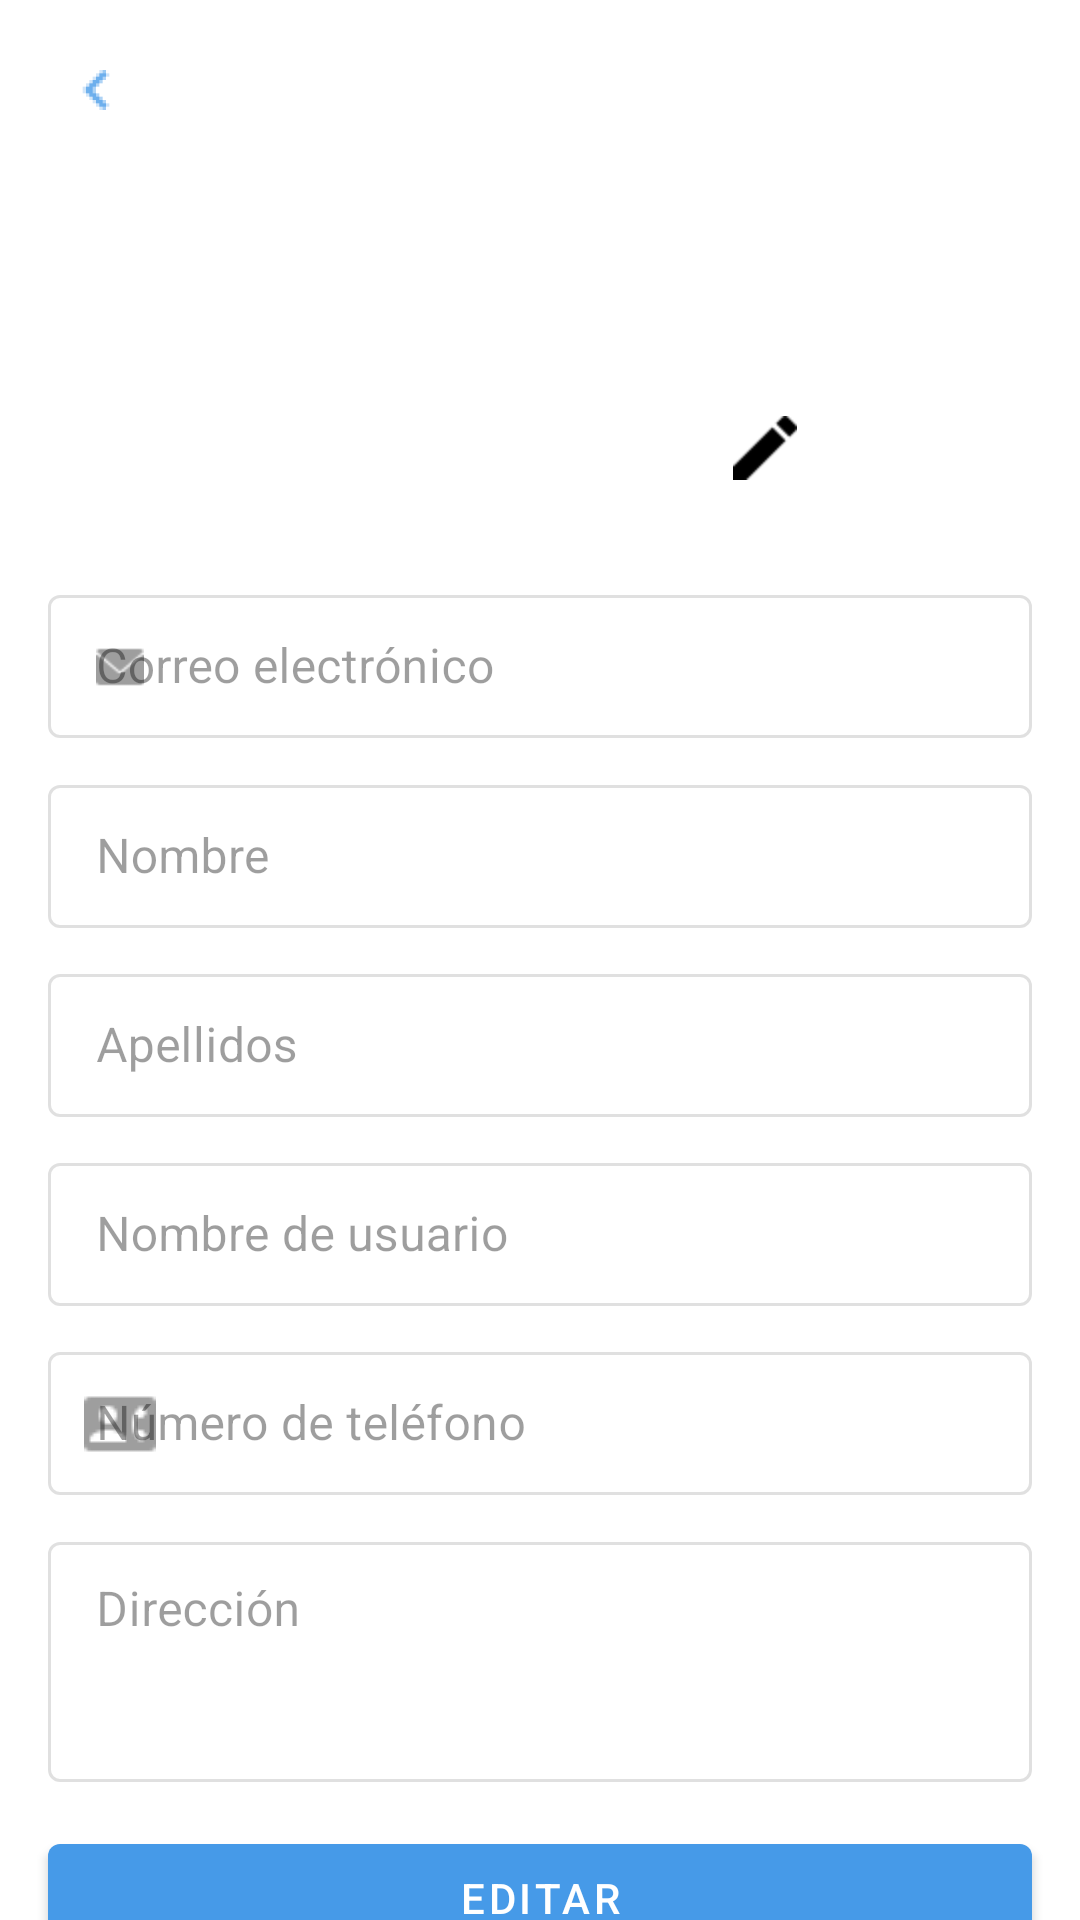

Icons on this 1080 × 1920 Android screen, each with the point to tap as (x,y):
edit: (765,448)
